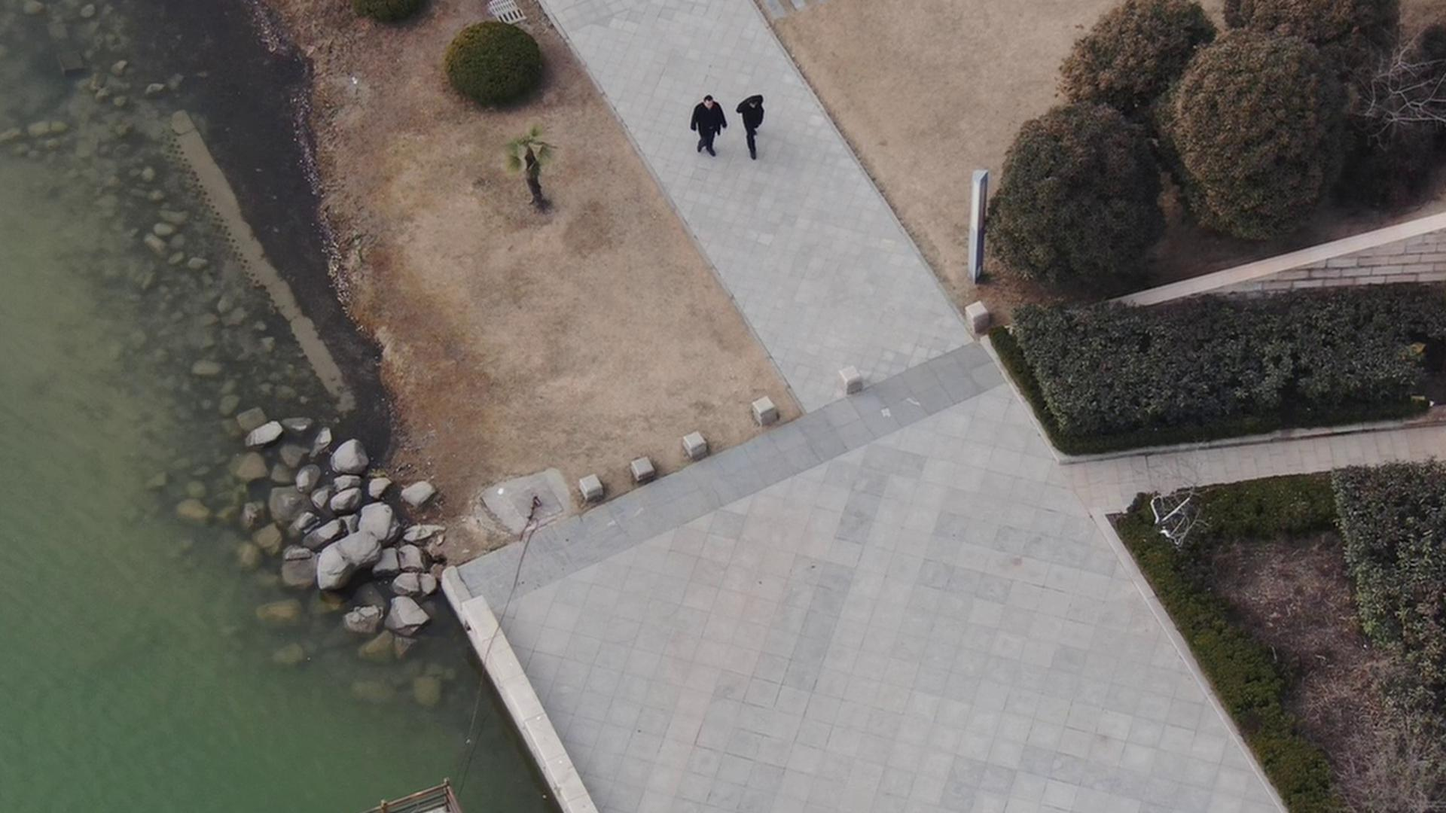human: (669, 76, 712, 157), (715, 81, 749, 153)
